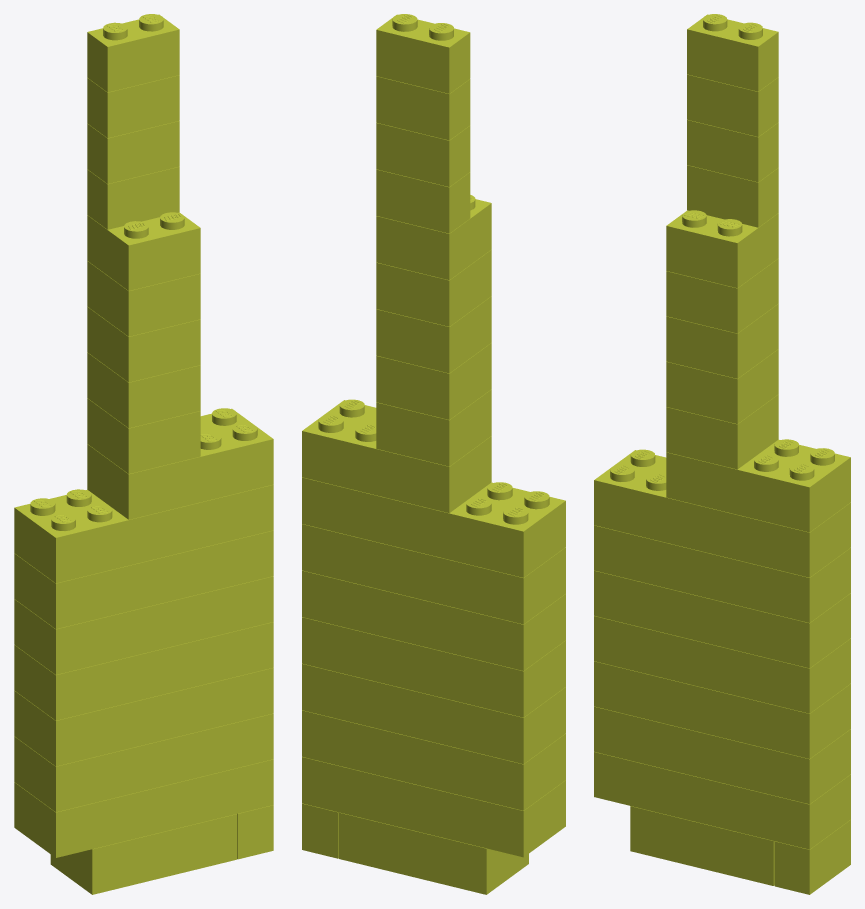
File: fullpipeline_add479b0_1_i_want_to_build_a_lego_acousti_seed789.glb
3 views of the same model, side by side, from view 1: azimuth 30°, elevation 25°; view 2: azimuth 150°, elevation 25°; view 3: azimuth 330°, elevation 25° (orthographic). The views are drawn at different scales.
Parts seen in each view (by area): view 1: 00009_2456.DAT, 00005_2456.DAT, 00004_2456.DAT, 00003_2456.DAT, 00007_2456.DAT, 00006_2456.DAT, 00008_2456.DAT, 00010_3001.DAT, 00002_3001.DAT, 00015_3003.DAT, 00019_3004.DAT, 00014_3003.DAT (+7 smaller); view 2: 00009_2456.DAT, 00003_2456.DAT, 00004_2456.DAT, 00005_2456.DAT, 00006_2456.DAT, 00008_2456.DAT, 00007_2456.DAT, 00010_3001.DAT, 00002_3001.DAT, 00019_3004.DAT, 00015_3003.DAT, 00011_3003.DAT (+7 smaller); view 3: 00009_2456.DAT, 00008_2456.DAT, 00003_2456.DAT, 00005_2456.DAT, 00006_2456.DAT, 00004_2456.DAT, 00007_2456.DAT, 00010_3001.DAT, 00015_3003.DAT, 00002_3001.DAT, 00019_3004.DAT, 00012_3003.DAT (+7 smaller).
Part boxes in pixels (bbox=[...]): 00009_2456.DAT: bbox=[14, 484, 273, 583]; 00005_2456.DAT: bbox=[14, 667, 273, 766]; 00004_2456.DAT: bbox=[14, 713, 273, 812]; 00003_2456.DAT: bbox=[14, 759, 273, 857]; 00007_2456.DAT: bbox=[14, 576, 273, 674]; 00006_2456.DAT: bbox=[14, 622, 273, 720]; 00008_2456.DAT: bbox=[14, 530, 273, 628]; 00010_3001.DAT: bbox=[87, 408, 273, 519]; 00002_3001.DAT: bbox=[50, 814, 237, 894]; 00015_3003.DAT: bbox=[87, 212, 200, 290]; 00019_3004.DAT: bbox=[87, 14, 179, 92]; 00014_3003.DAT: bbox=[87, 261, 200, 336]; 00009_2456.DAT: bbox=[302, 477, 565, 577]; 00003_2456.DAT: bbox=[302, 757, 565, 857]; 00004_2456.DAT: bbox=[302, 710, 565, 810]; 00005_2456.DAT: bbox=[302, 663, 565, 764]; 00006_2456.DAT: bbox=[302, 617, 565, 717]; 00008_2456.DAT: bbox=[302, 524, 565, 624]; 00007_2456.DAT: bbox=[302, 570, 565, 670]; 00010_3001.DAT: bbox=[302, 399, 491, 513]; 00002_3001.DAT: bbox=[339, 812, 528, 894]; 00019_3004.DAT: bbox=[376, 14, 470, 93]; 00015_3003.DAT: bbox=[376, 195, 491, 280]; 00011_3003.DAT: bbox=[376, 389, 491, 466]; 00009_2456.DAT: bbox=[594, 449, 850, 577]; 00008_2456.DAT: bbox=[594, 525, 850, 622]; 00003_2456.DAT: bbox=[594, 752, 850, 849]; 00005_2456.DAT: bbox=[594, 661, 850, 758]; 00006_2456.DAT: bbox=[594, 616, 850, 713]; 00004_2456.DAT: bbox=[594, 706, 850, 804]; 00007_2456.DAT: bbox=[594, 570, 850, 668]; 00010_3001.DAT: bbox=[666, 439, 850, 532]; 00015_3003.DAT: bbox=[666, 210, 778, 288]; 00002_3001.DAT: bbox=[630, 806, 774, 885]; 00019_3004.DAT: bbox=[687, 14, 778, 91]; 00012_3003.DAT: bbox=[666, 349, 778, 423].
Size of the model in its own units: 0.0478 by 0.1743 by 0.0158.
